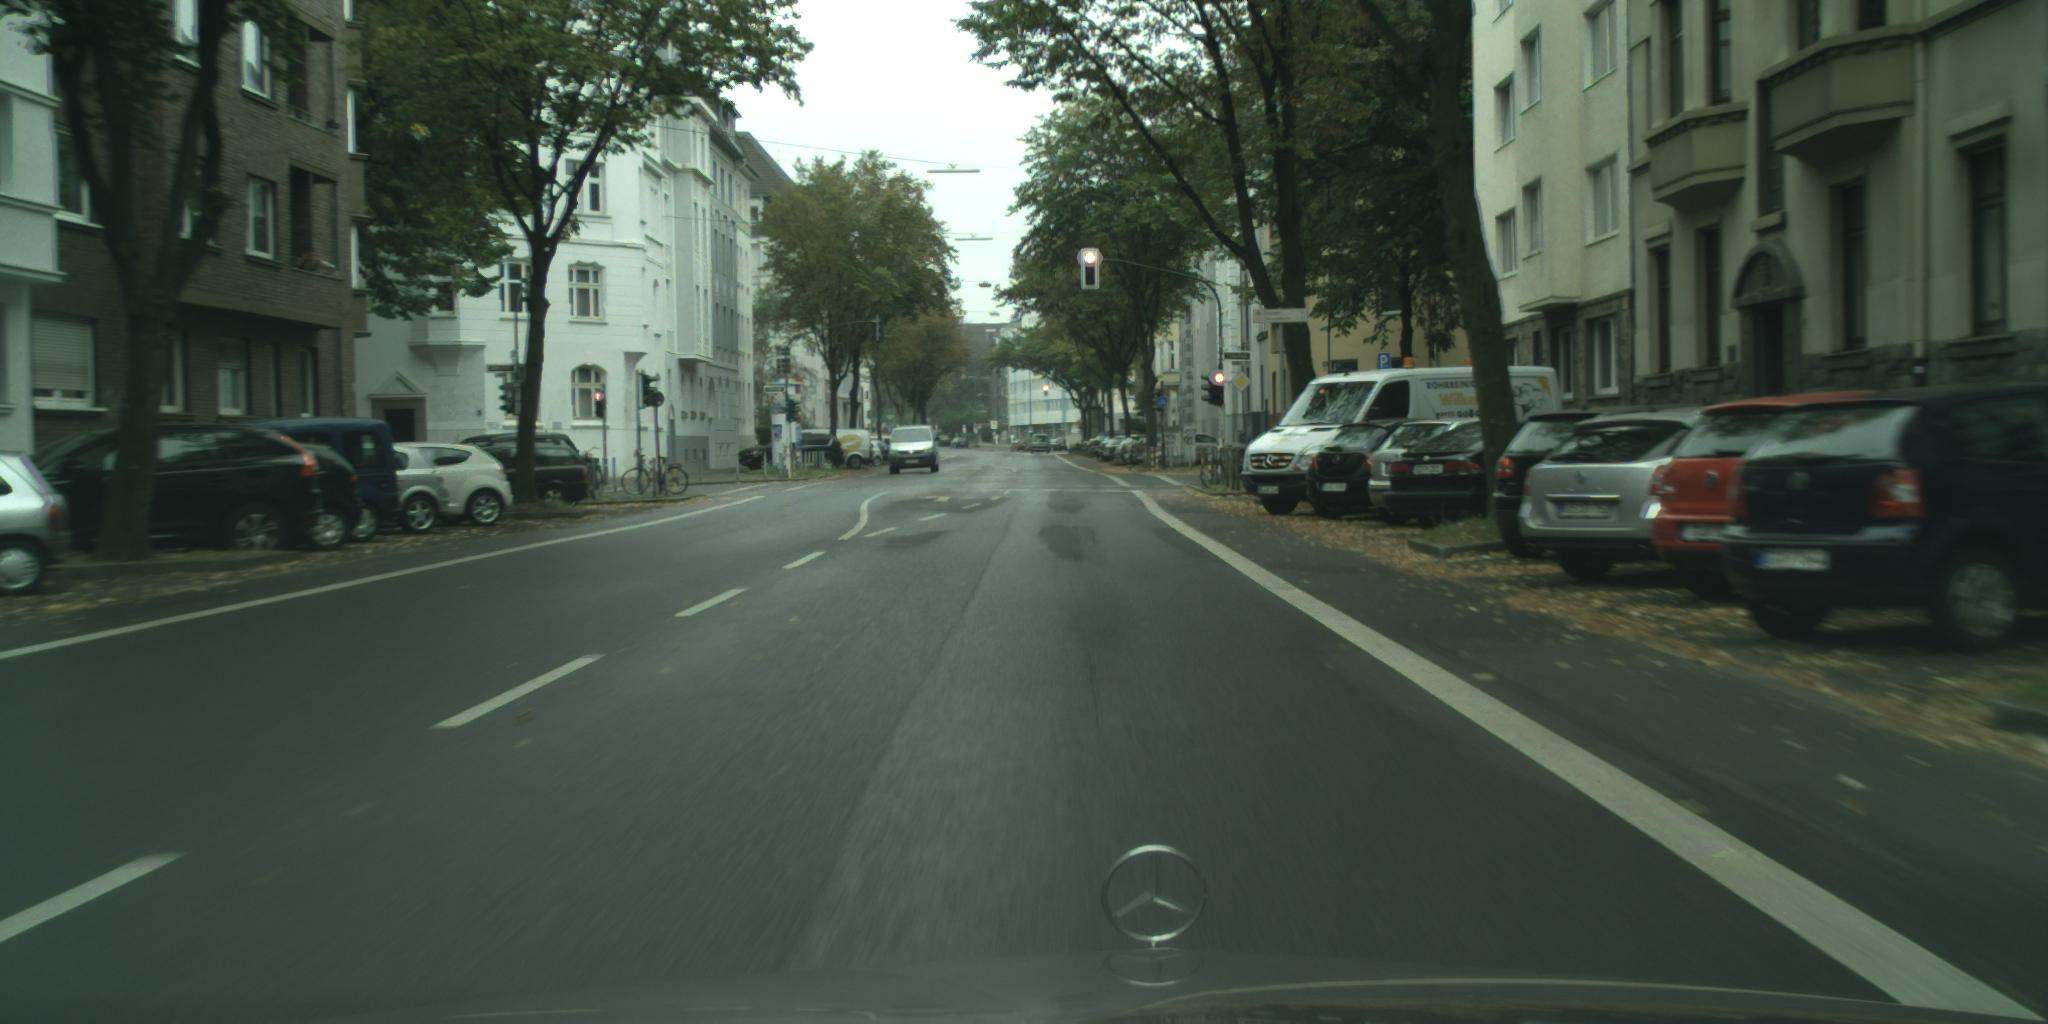bicycle: (622, 448, 690, 496), (580, 448, 605, 498), (1202, 462, 1221, 490)
car: (1721, 383, 2048, 654), (1242, 357, 1567, 525), (1644, 391, 1887, 603), (20, 424, 325, 554), (1516, 408, 1721, 583), (1497, 406, 1669, 559), (217, 418, 398, 543), (1306, 419, 1446, 526), (1368, 414, 1481, 532), (1384, 421, 1486, 532), (389, 443, 515, 526), (1, 452, 72, 600), (280, 444, 364, 554), (458, 434, 580, 509), (473, 444, 590, 507), (376, 447, 451, 536), (738, 434, 845, 472), (888, 427, 940, 475), (837, 430, 871, 472), (866, 436, 893, 462), (865, 441, 886, 468)
